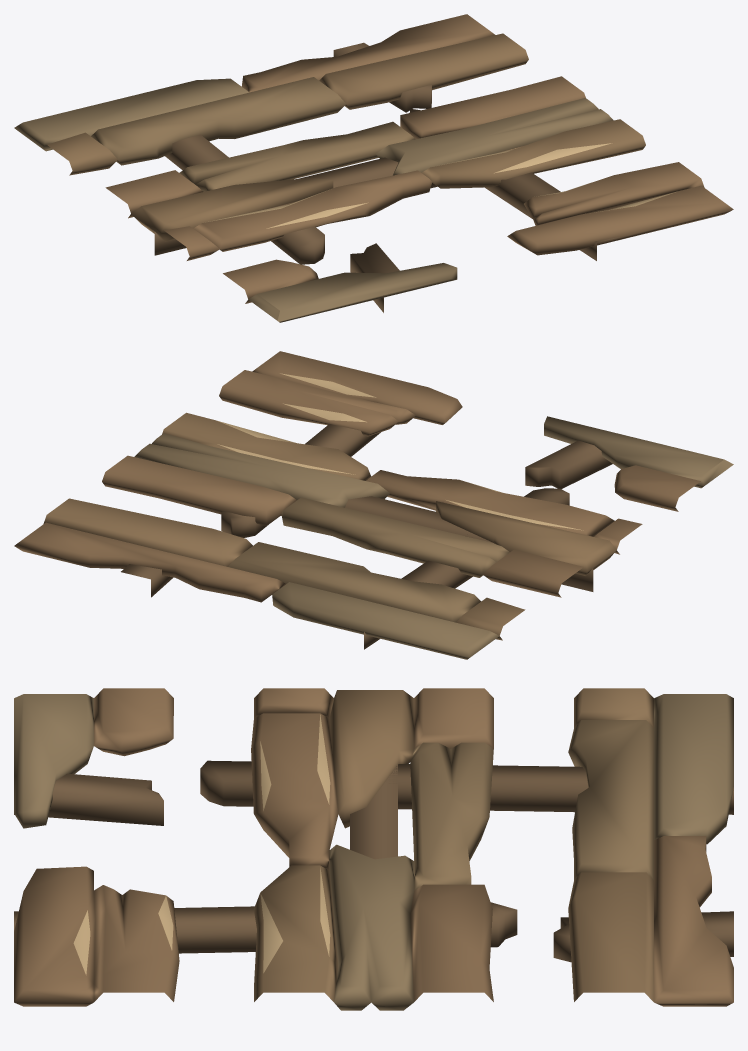
Rendered from rpgpp_av_floor_01f_3x3_2side.gltf.
3 views of the same model, one above another, from view 1: azimuth 30°, elevation 25°; view 2: azimuth 150°, elevation 25°; view 3: azimuth 270°, elevation 25° (orthographic). The views are drawn at different scales.
Visible parts, largest first — view 1: rpgpp_av_floor_01f_3x3_2side; view 2: rpgpp_av_floor_01f_3x3_2side; view 3: rpgpp_av_floor_01f_3x3_2side.
Part boxes in pixels (box(x1,y1,x2,y2)): rpgpp_av_floor_01f_3x3_2side: box(14, 14, 733, 322); rpgpp_av_floor_01f_3x3_2side: box(14, 351, 733, 659); rpgpp_av_floor_01f_3x3_2side: box(14, 688, 733, 1010).
Size of the model in its own units: 0.03 by 0.00215 by 0.03.
Materials: 1 (1 with a texture image).
